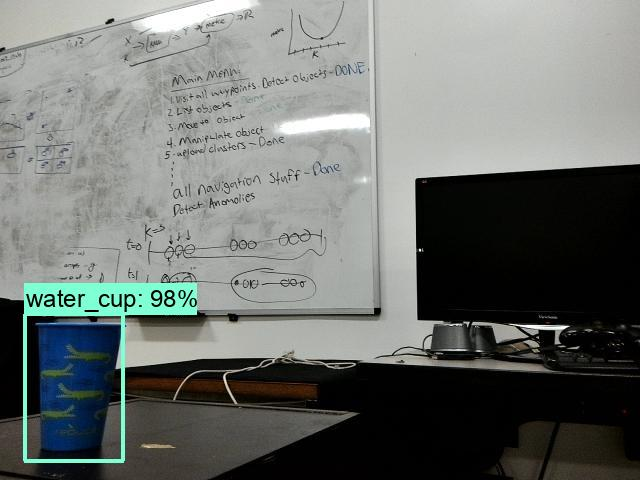water_cup: (30, 316, 122, 458)
